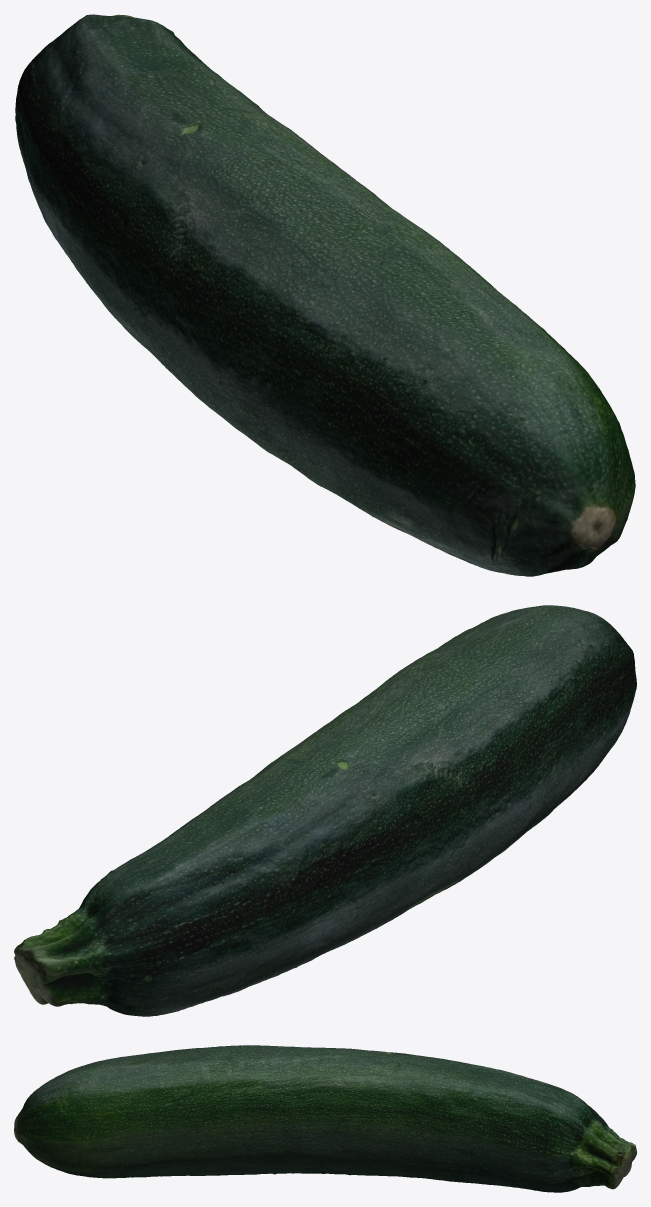
The picture shows the model from 3 angles, top to bottom: view 1: azimuth 30°, elevation 25°; view 2: azimuth 150°, elevation 25°; view 3: azimuth 270°, elevation 25°; orthographic projection. The views are drawn at different scales.
Parts seen in each view (by area): view 1: zucchini; view 2: zucchini; view 3: zucchini.
Part boxes in pixels (x1,y1,x2,y2): zucchini: (15, 14, 635, 576); zucchini: (14, 605, 636, 1016); zucchini: (14, 1045, 636, 1192).
Size of the model in its own units: 0.0901 by 0.0652 by 0.3113.
1 material, 1 textured.
